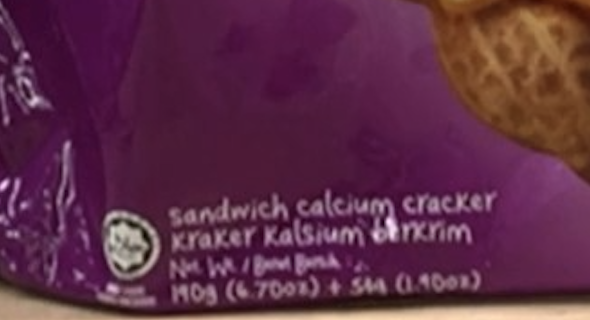halal: (109, 227, 150, 272)
